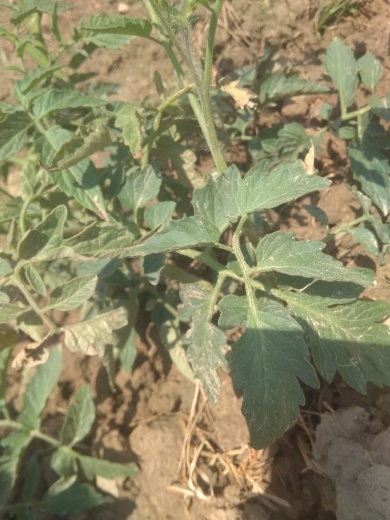tomato diseased leaf: (17, 315, 122, 382), (210, 66, 261, 121)
tomato plant: (16, 21, 388, 465)
